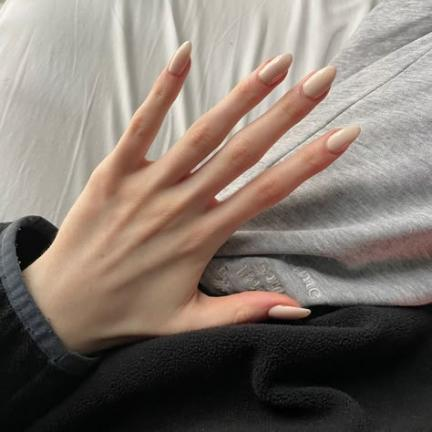Nail: (257, 51, 293, 86), (302, 65, 337, 100), (326, 125, 361, 154), (168, 40, 192, 76), (268, 305, 310, 319)
